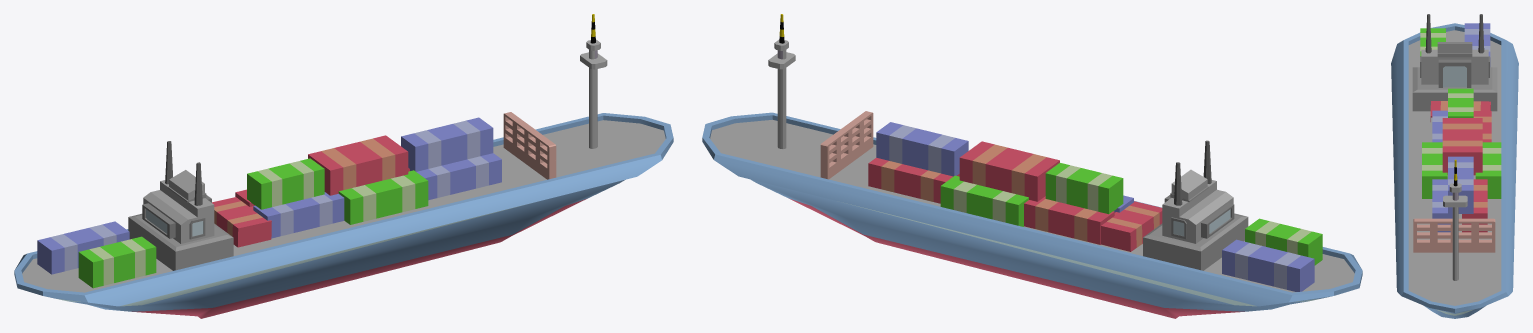
Rendered from ship.fbx.
3 renders of one model, left to right at view 1: azimuth 30°, elevation 25°; view 2: azimuth 150°, elevation 25°; view 3: azimuth 270°, elevation 25°, orthographic. The views are drawn at different scales.
Parts seen in each view (by area): view 1: CargoShip; view 2: CargoShip; view 3: CargoShip.
Boxes of the visible parts, <box> form: CargoShip: <box>14,14,673,318</box>; CargoShip: <box>702,14,1362,318</box>; CargoShip: <box>1391,14,1518,318</box>.
Bounding box in the file's own units: 120 × 35.33 × 22.66.
